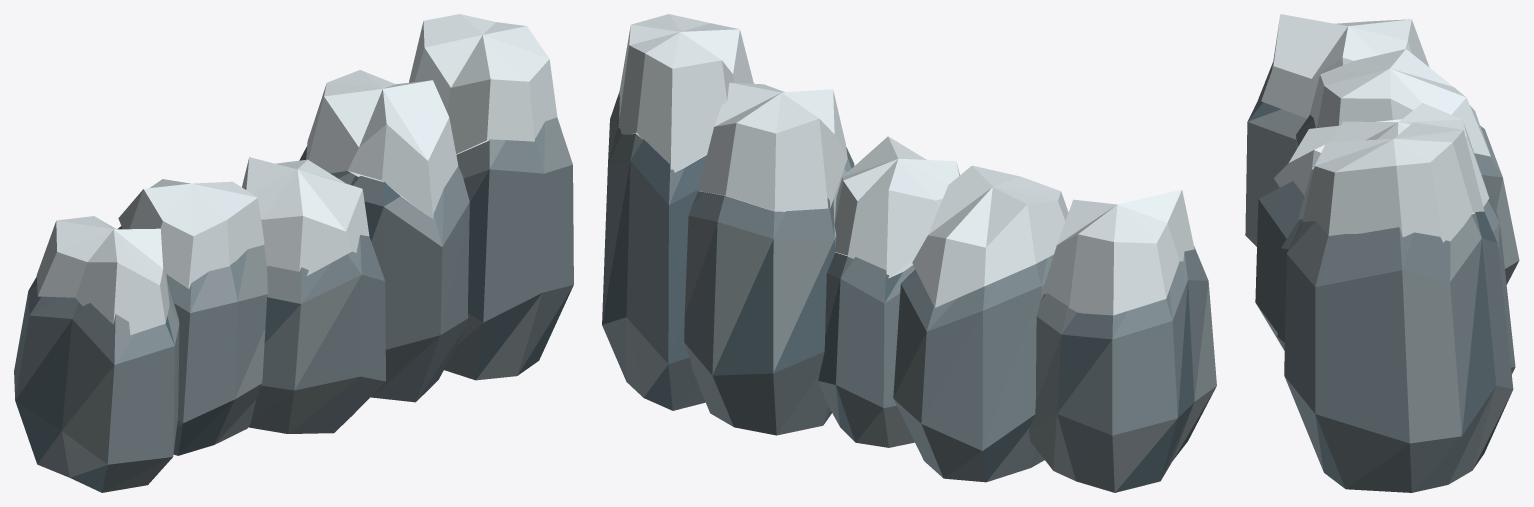
The model's file is ROCK_10_CliffSmall.glb.
3 views of the same model, side by side, from view 1: azimuth 30°, elevation 25°; view 2: azimuth 150°, elevation 25°; view 3: azimuth 270°, elevation 25° (orthographic). The views are drawn at different scales.
Visible parts, largest first — view 1: ROCK_10_CliffSmall; view 2: ROCK_10_CliffSmall; view 3: ROCK_10_CliffSmall.
Boxes of the visible parts, <box> form: ROCK_10_CliffSmall: <box>14,14,573,492</box>; ROCK_10_CliffSmall: <box>602,14,1216,492</box>; ROCK_10_CliffSmall: <box>1245,14,1519,492</box>.
Size of the model in its own units: 6.76 by 3.85 by 2.87.
